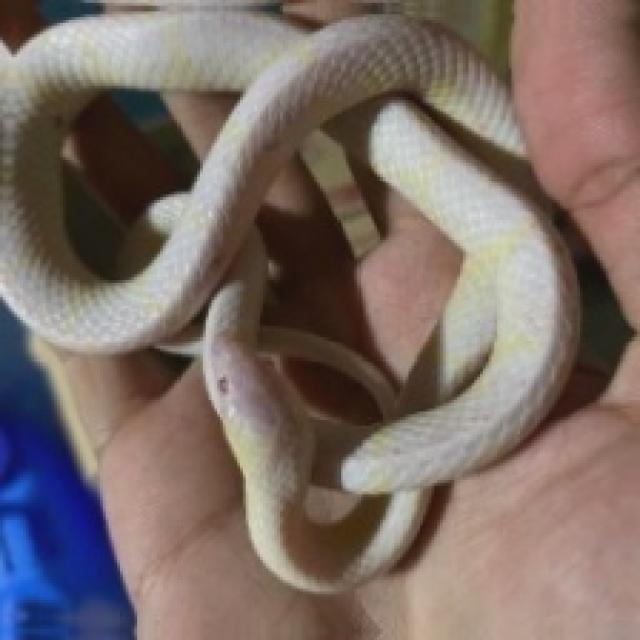gunthers philippine shrub snake: (0, 11, 577, 591)
